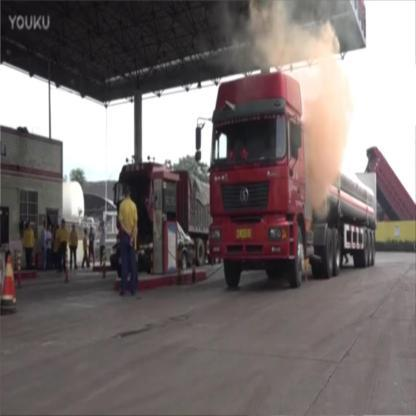smoke: (308, 91, 341, 201), (250, 11, 294, 62)
